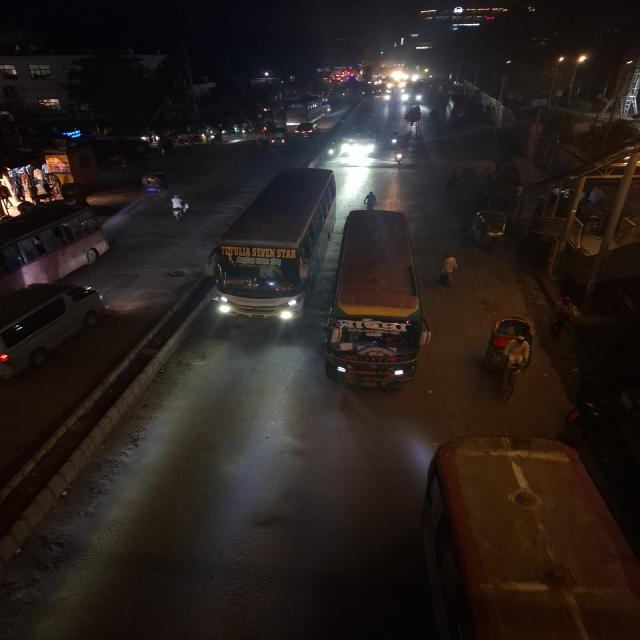bus: (205, 166, 335, 327), (326, 206, 431, 394), (0, 202, 107, 301), (341, 108, 379, 160), (280, 94, 326, 126), (442, 92, 470, 126), (401, 82, 426, 105)
car: (0, 279, 109, 382), (294, 120, 321, 138)
cng: (467, 206, 512, 254), (268, 127, 289, 148)
motorcycle: (165, 192, 193, 223), (388, 128, 401, 147)
pedestrian: (436, 252, 461, 288), (165, 192, 192, 223), (404, 108, 420, 135)
rickshaw: (480, 312, 540, 396), (440, 158, 498, 204), (466, 206, 513, 255), (135, 170, 173, 198)
